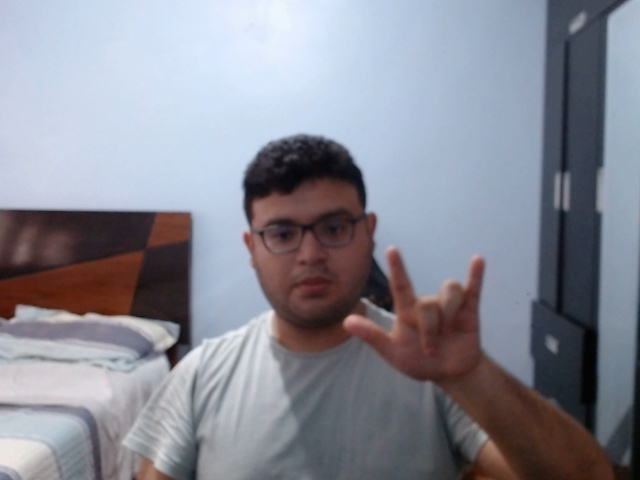I love you: (341, 240, 489, 388)
